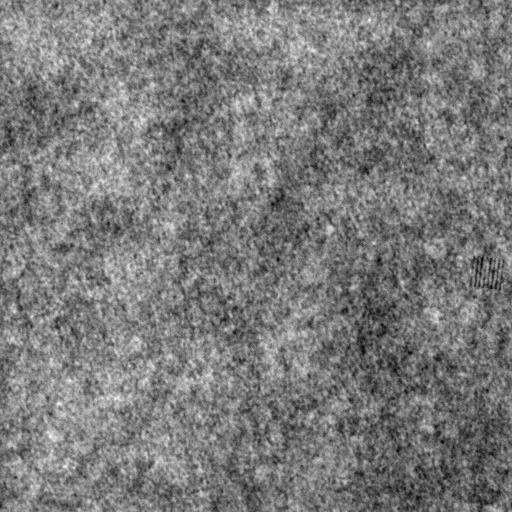DefectTypeB: (472, 254, 504, 291)
